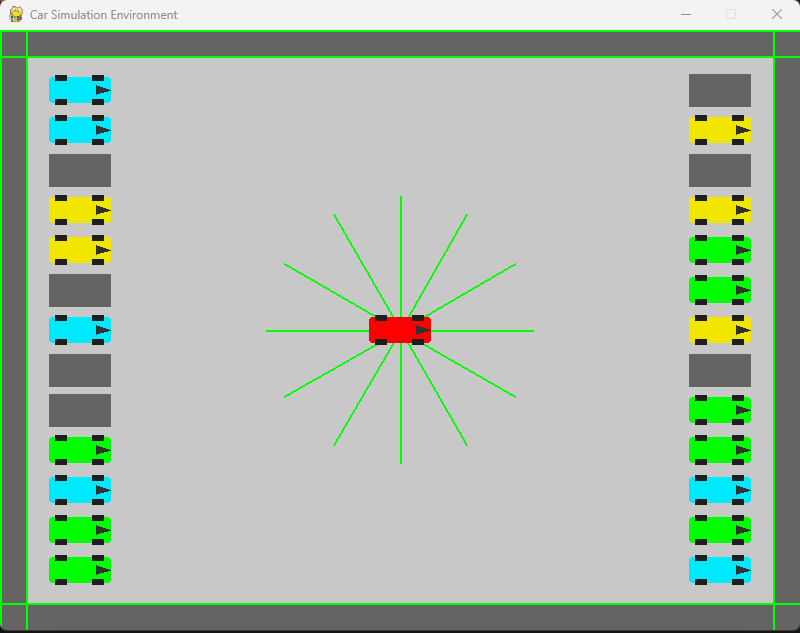ControlledCar: (358, 310, 438, 350)
ParkedCar: (43, 67, 113, 108), (683, 473, 757, 511), (44, 472, 117, 510), (684, 513, 760, 548), (45, 512, 120, 547), (687, 551, 752, 590), (683, 234, 757, 268), (684, 270, 755, 305), (686, 312, 757, 347), (683, 113, 752, 149), (46, 234, 115, 268), (686, 433, 754, 467), (48, 430, 114, 465), (45, 315, 116, 347), (688, 391, 750, 427), (45, 111, 110, 145), (689, 193, 752, 228), (49, 554, 114, 586), (49, 196, 115, 224)
ParkingSpot: (681, 67, 757, 109), (684, 150, 760, 192), (685, 352, 758, 392), (46, 271, 116, 309), (46, 150, 117, 187), (48, 393, 116, 431), (44, 355, 117, 389)
